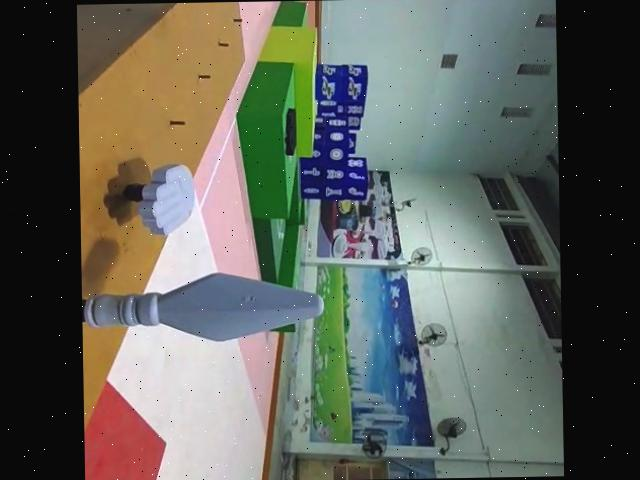Hand: (124, 160, 199, 239)
Sph: (81, 267, 323, 350)
